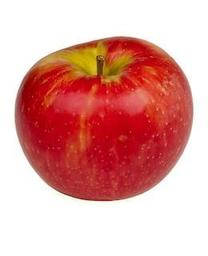apple: (13, 36, 193, 201)
